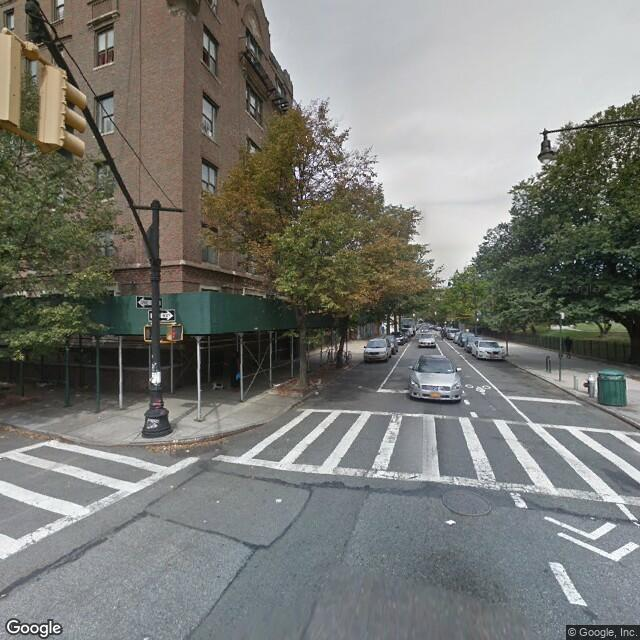litter: (444, 521, 460, 525)
